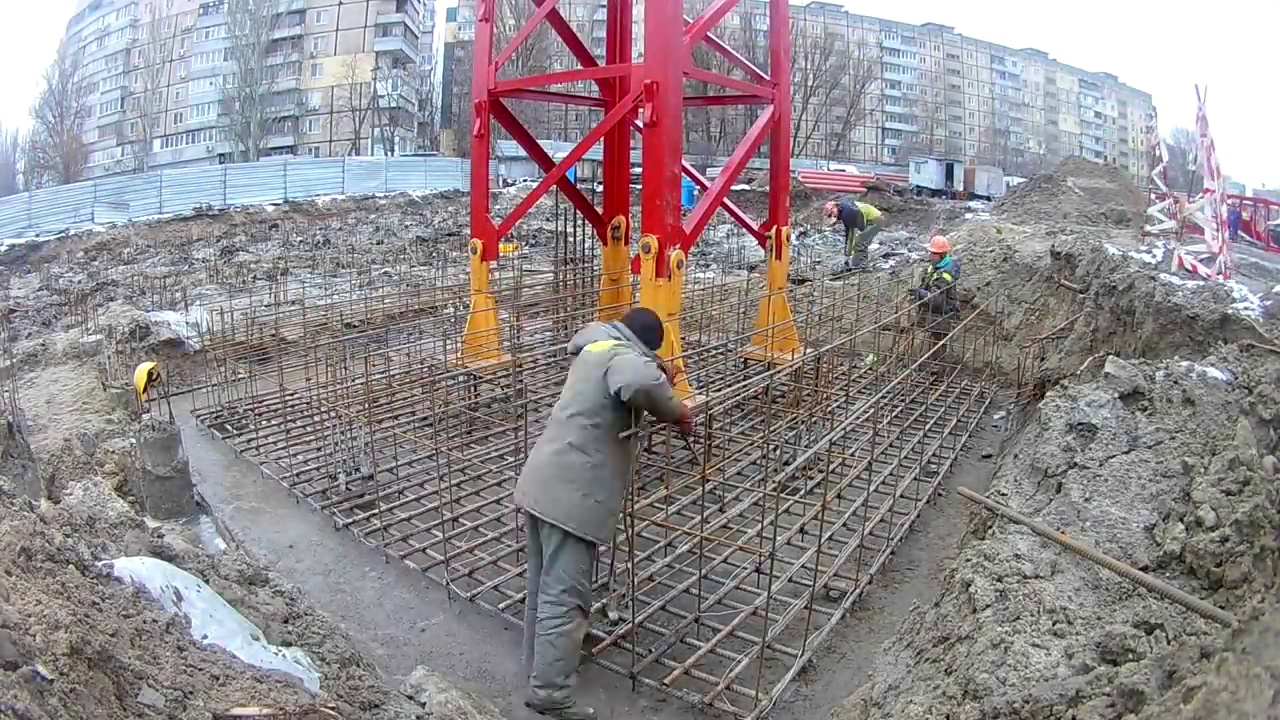helmet: (131, 359, 159, 406), (926, 237, 950, 254), (825, 200, 839, 219)
helmet-off: (608, 307, 667, 364)
helmet-on: (926, 236, 951, 267), (824, 197, 848, 223)
person: (511, 304, 701, 720), (824, 198, 885, 270), (908, 236, 961, 316)
